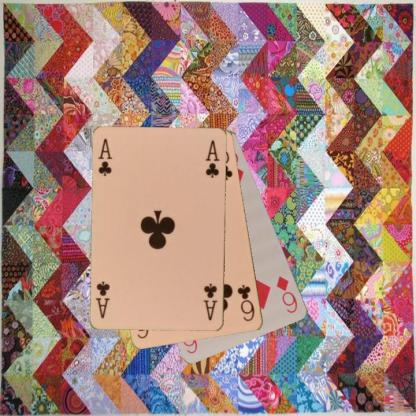6c: (235, 282, 256, 323)
6d: (274, 273, 299, 315)
Ac: (201, 281, 219, 322), (96, 136, 113, 177)
